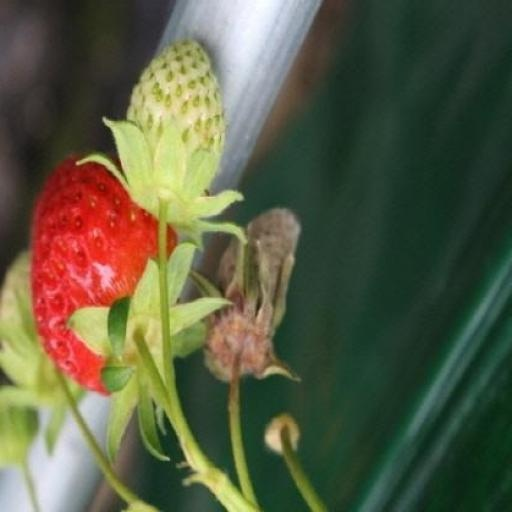Gray Mold: (209, 120, 325, 307)
